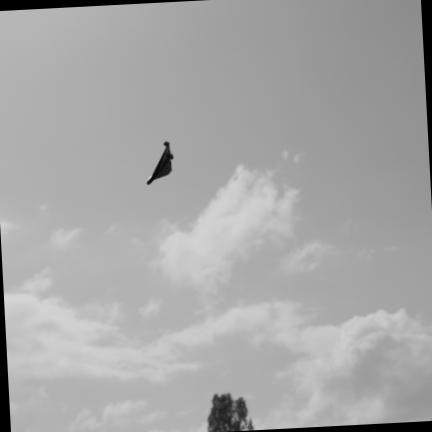Shahed: (147, 142, 173, 184)
